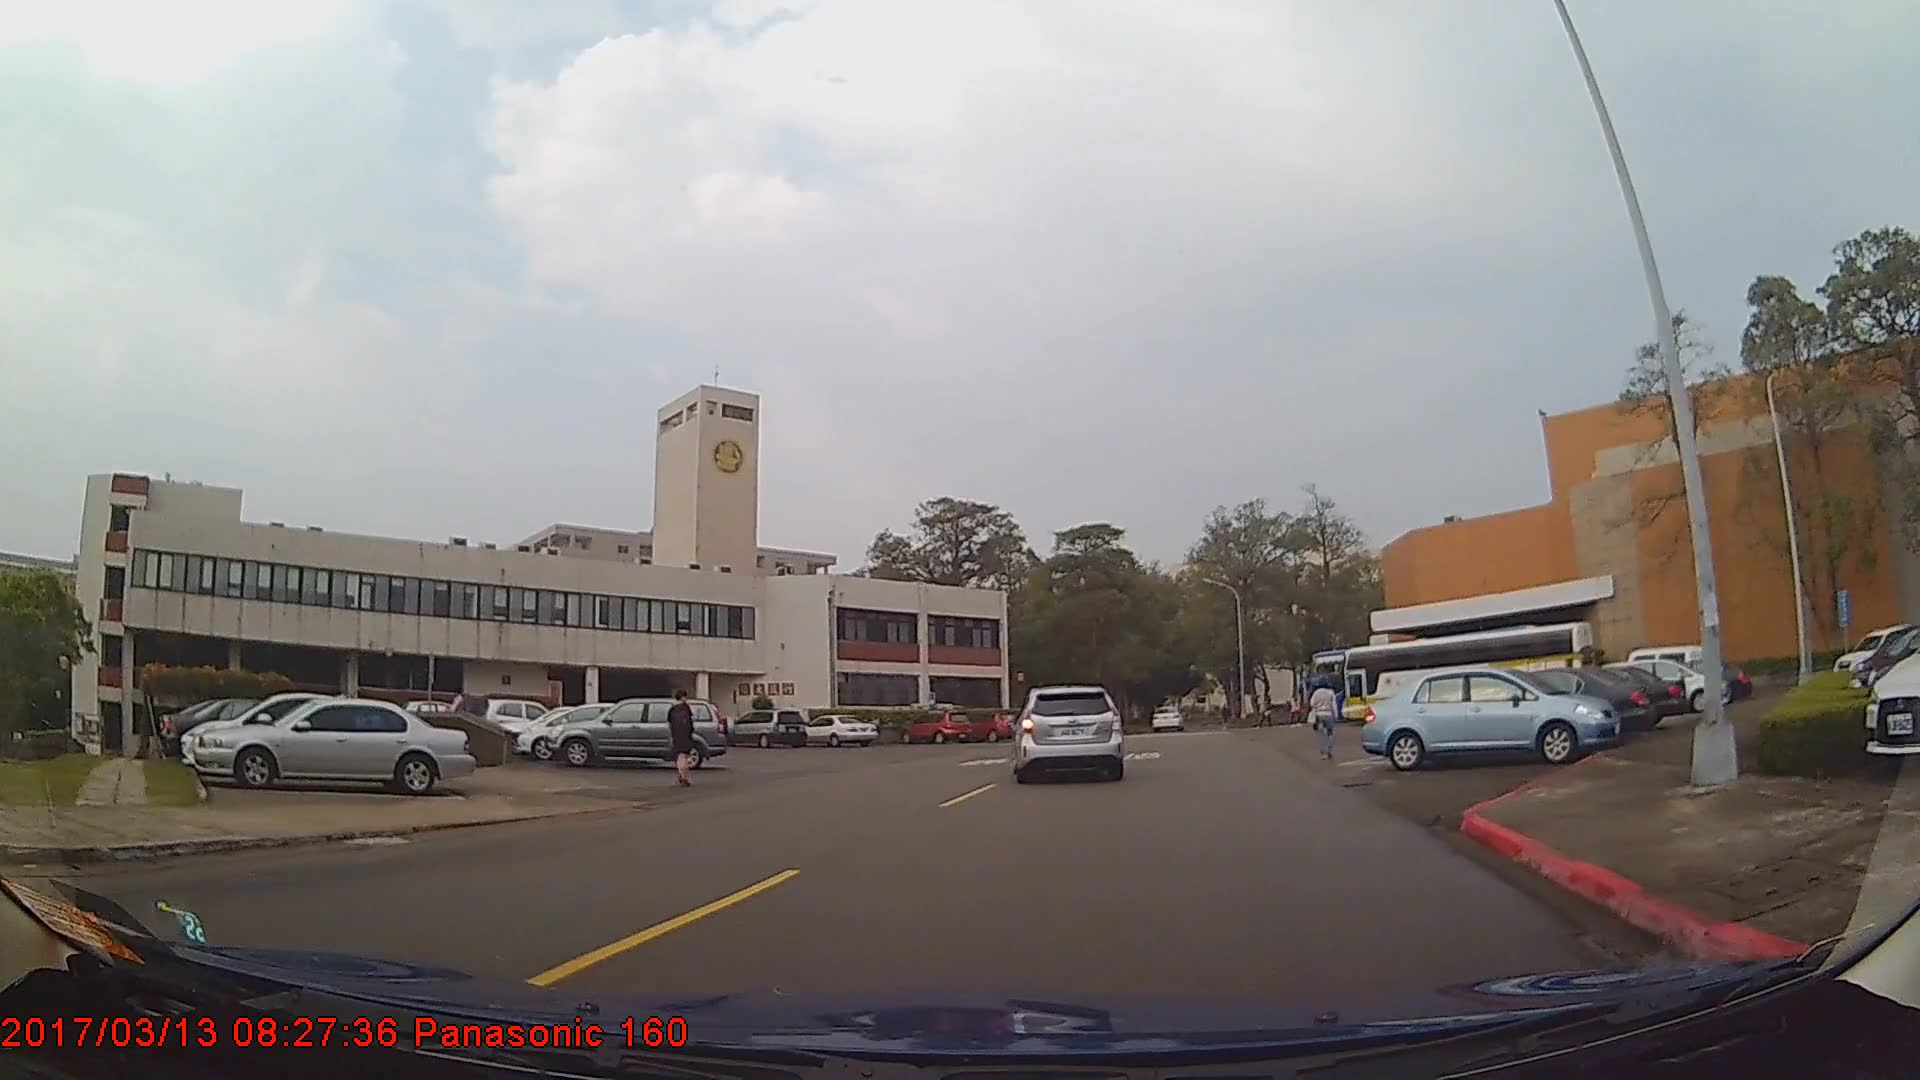pedestrian: (1305, 676, 1341, 764), (669, 692, 697, 790)
vehicle: (192, 695, 476, 794), (1360, 663, 1618, 768), (177, 688, 416, 778), (1426, 666, 1656, 741), (543, 695, 734, 768), (163, 699, 364, 766), (1508, 665, 1689, 728), (1014, 684, 1123, 783), (517, 699, 666, 760), (482, 696, 567, 747), (725, 706, 808, 748), (800, 711, 879, 745), (901, 709, 974, 745), (1150, 707, 1184, 735)
